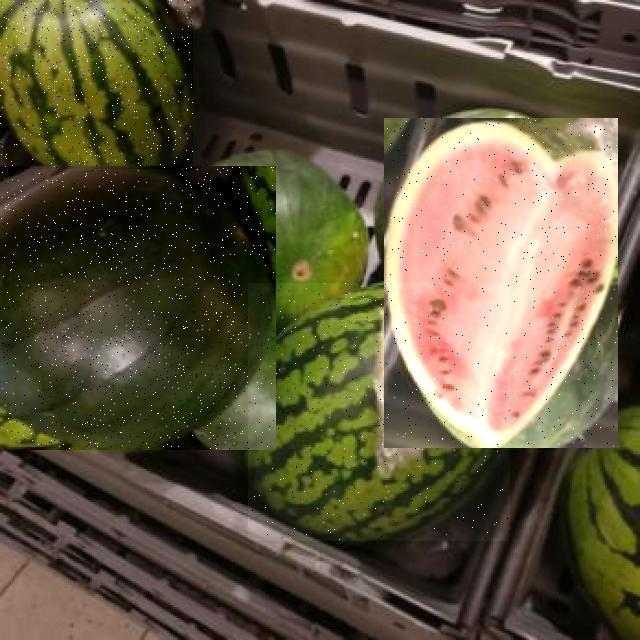Watermelon: (0, 166, 276, 450), (384, 118, 618, 448), (248, 283, 510, 541), (0, 0, 193, 169)
